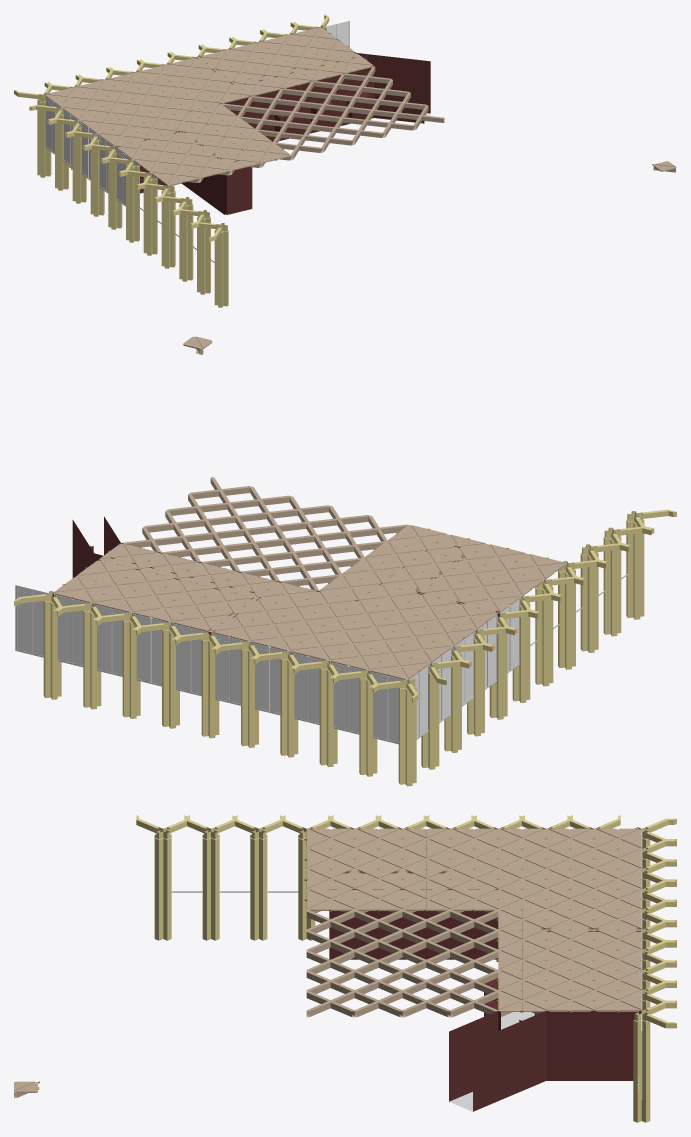
The model's file is WestPavillion_V2.glb.
3 renders of one model, top to bottom at view 1: azimuth 30°, elevation 25°; view 2: azimuth 150°, elevation 25°; view 3: azimuth 270°, elevation 25°, orthographic. The views are drawn at different scales.
Parts seen in each view (by area): view 1: Cieling Panels.001, Cieling supports.001, Cube.001, Walls_Pavillion, Cieling Panels.002, Cube.033, Cube.009, Cube.007; view 2: Cieling Panels.001, Cieling supports.001, Cube.033, Cube.001, Cube.008, Cieling Panels.002, Cube.009, Cube.006, Walls_Pavillion, Cube.007; view 3: Cieling Panels.001, Cieling supports.001, Walls_Pavillion, Cieling Panels.002, Cube.001, Cube.033, Floor_Pavillion, Cube.006.
Part boxes in pixels (<box>): Cieling Panels.001: <box>45,65,290,185</box>; Cieling supports.001: <box>45,27,444,188</box>; Cube.001: <box>29,105,228,307</box>; Walls_Pavillion: <box>106,27,430,214</box>; Cieling Panels.002: <box>169,27,373,103</box>; Cube.033: <box>14,14,329,177</box>; Cube.009: <box>46,97,130,204</box>; Cube.007: <box>45,96,132,206</box>; Cieling Panels.001: <box>251,525,565,679</box>; Cieling supports.001: <box>53,477,566,683</box>; Cube.033: <box>14,591,418,786</box>; Cube.001: <box>421,509,676,769</box>; Cube.008: <box>17,586,402,742</box>; Cieling Panels.002: <box>54,543,316,641</box>; Cube.009: <box>410,600,519,737</box>; Cube.006: <box>15,585,405,744</box>; Walls_Pavillion: <box>52,516,499,675</box>; Cube.007: <box>408,598,520,739</box>; Cieling Panels.001: <box>306,828,641,910</box>; Cieling supports.001: <box>306,829,641,1017</box>; Walls_Pavillion: <box>329,871,641,1111</box>; Cieling Panels.002: <box>498,909,641,1011</box>; Cube.001: <box>136,815,620,940</box>; Cube.033: <box>633,818,676,1122</box>; Floor_Pavillion: <box>449,1012,534,1111</box>; Cube.006: <box>641,831,642,1099</box>.
Bounding box in the file's own units: 46.7 × 8.5 × 47.1.
